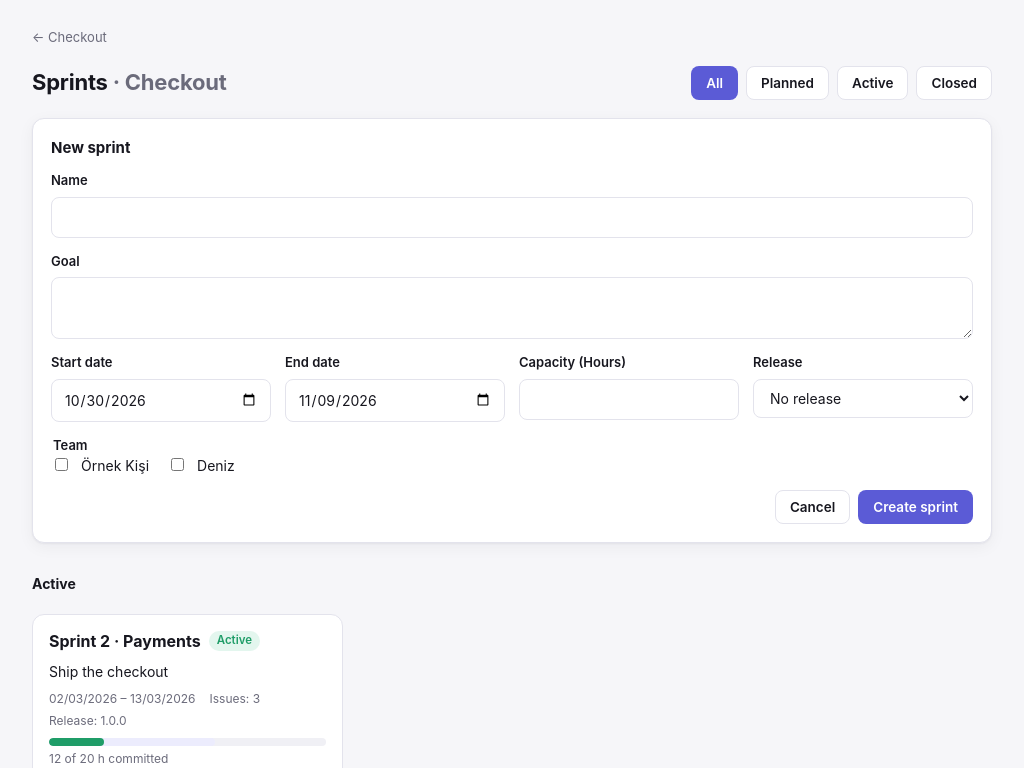
Test: the sprint list: a new sprint › opens the form at once for the shortcut and closes it again
Expected: the date field labelled "Start date" is shown, [51, 378, 271, 422]
Click the button "Cancel": [813, 507] box [775, 490, 850, 524]
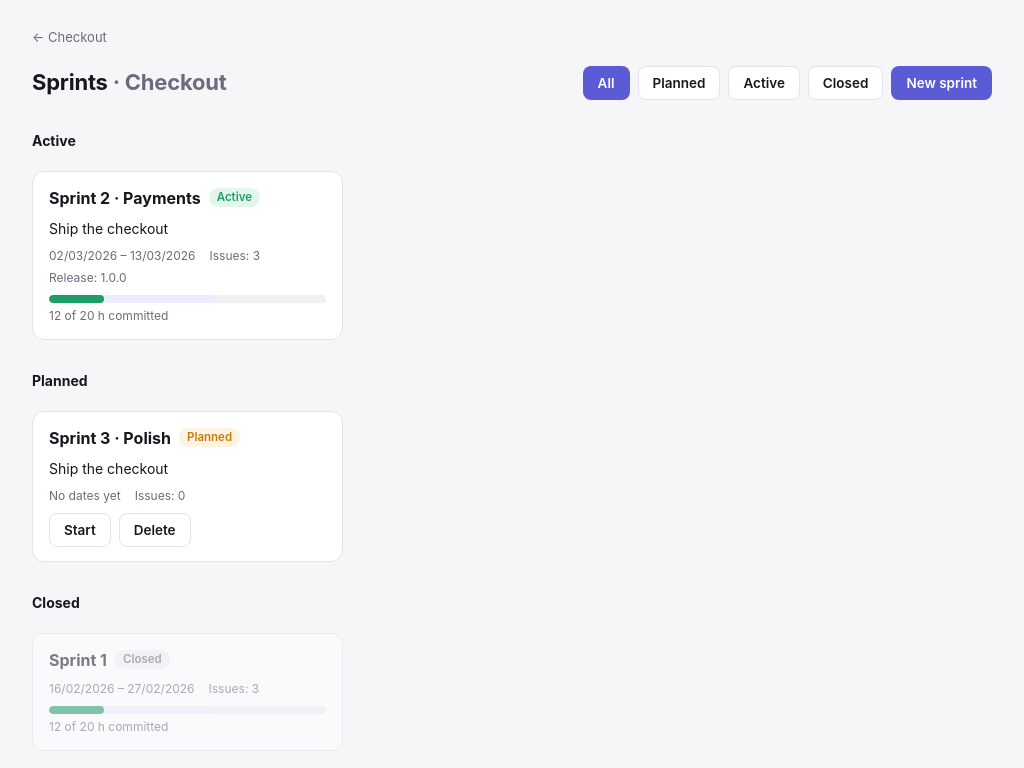
Expected: the button "New sprint" is shown, [891, 66, 992, 100]
Expected: the label labelled "Start date" is gone
